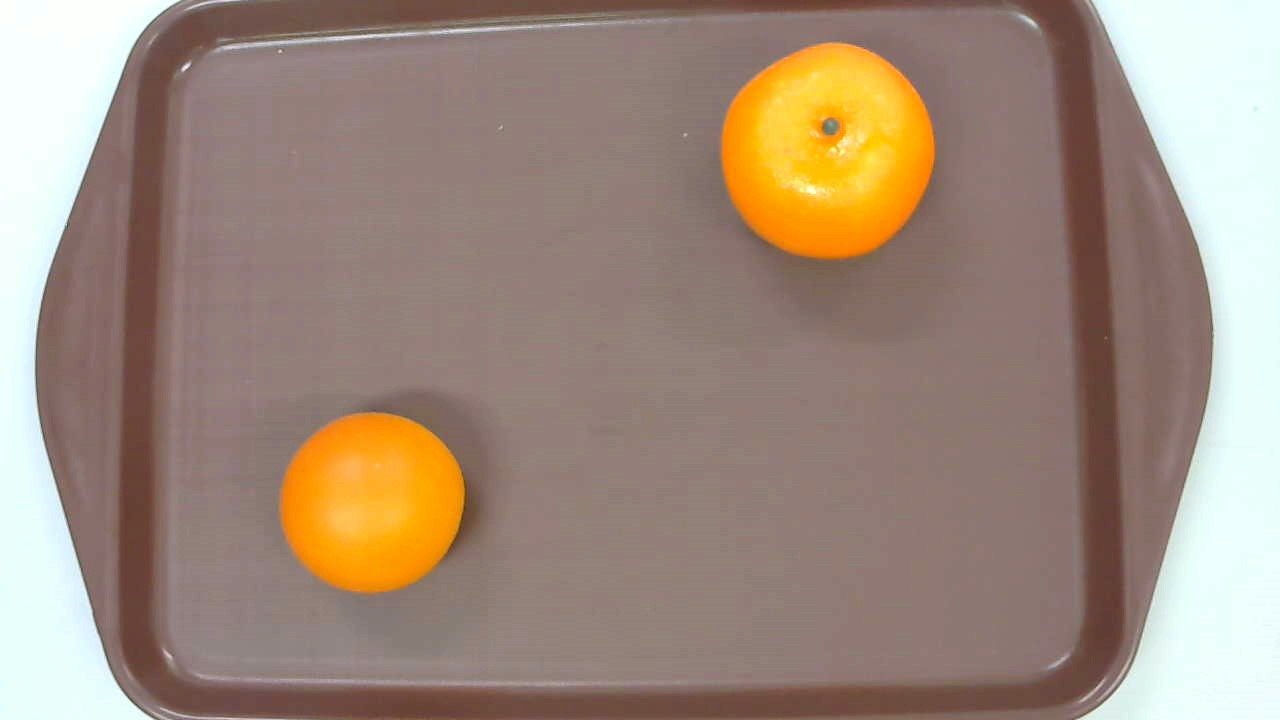bun: (278, 412, 466, 595)
orange: (721, 42, 935, 261)
